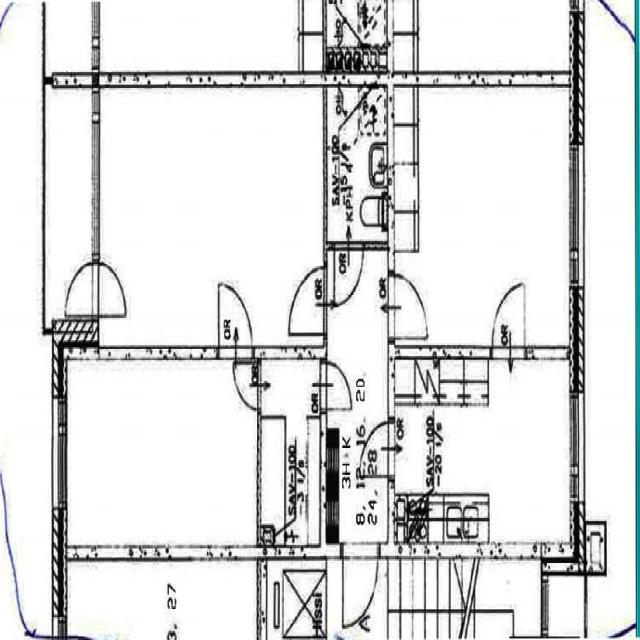door: (344, 542, 378, 627), (288, 266, 327, 334), (218, 282, 252, 359), (388, 274, 427, 338), (492, 284, 524, 359), (359, 422, 395, 477), (91, 262, 127, 316), (64, 262, 99, 316), (334, 241, 363, 305), (232, 363, 262, 410), (320, 363, 350, 409)
